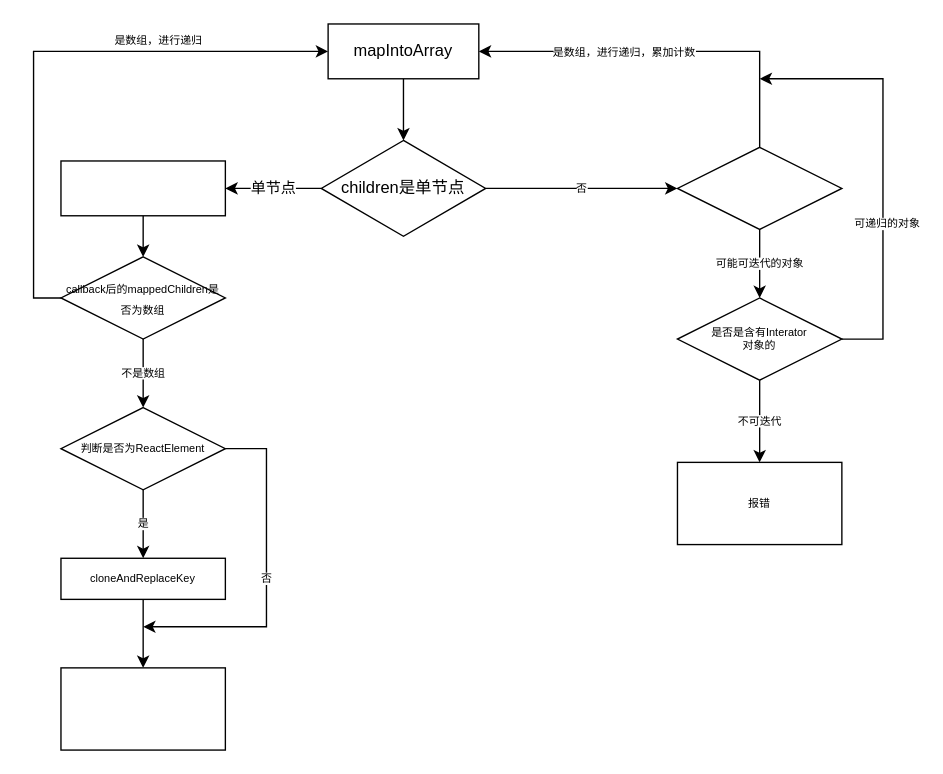
The diagram is 943 pixels wide and 774 high, and some of its shapes have lost their labels. Here are the shapes that lost their labels. From the top down, the centre of each, then its label:
At [142,188]: "callback".
At [759,187]: "数组或可能 可以可迭代对象".
At [142,708]: "push进array中 return 1".
